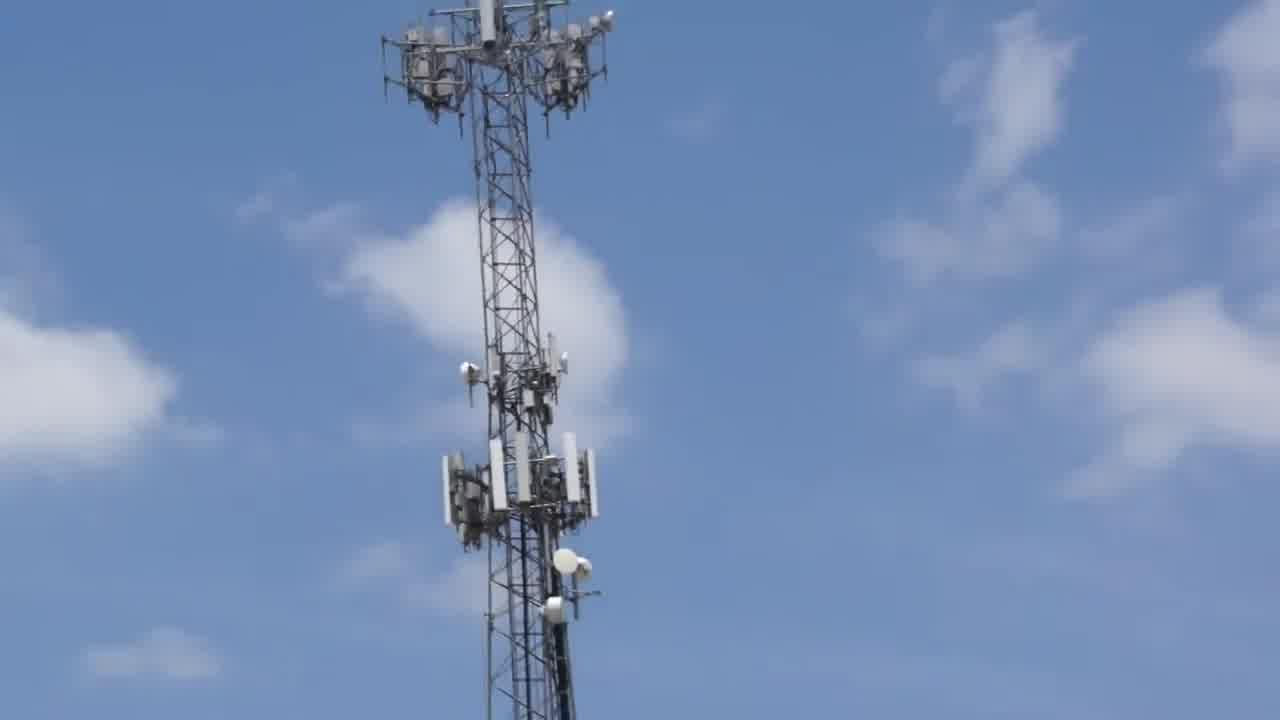Microwave Antenna: (545, 541, 582, 578), (455, 355, 482, 395), (537, 597, 567, 626), (571, 557, 603, 583), (553, 347, 575, 378)
antenna: (583, 437, 609, 525), (487, 433, 514, 514), (561, 425, 585, 510), (513, 428, 538, 504), (430, 457, 455, 527)
